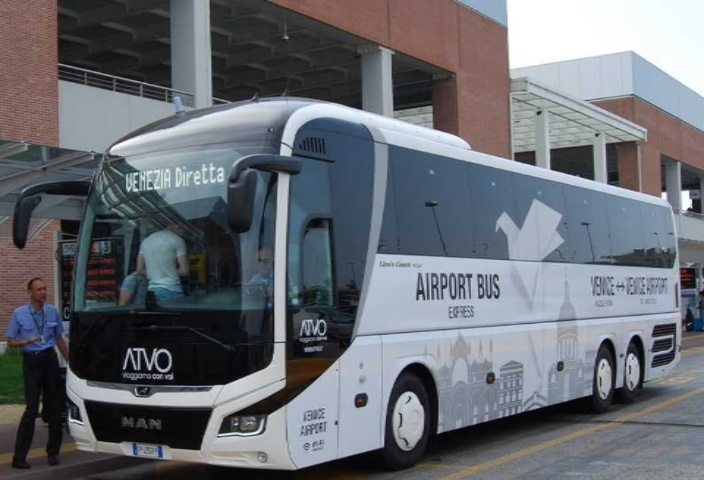bus: (19, 87, 686, 468)
